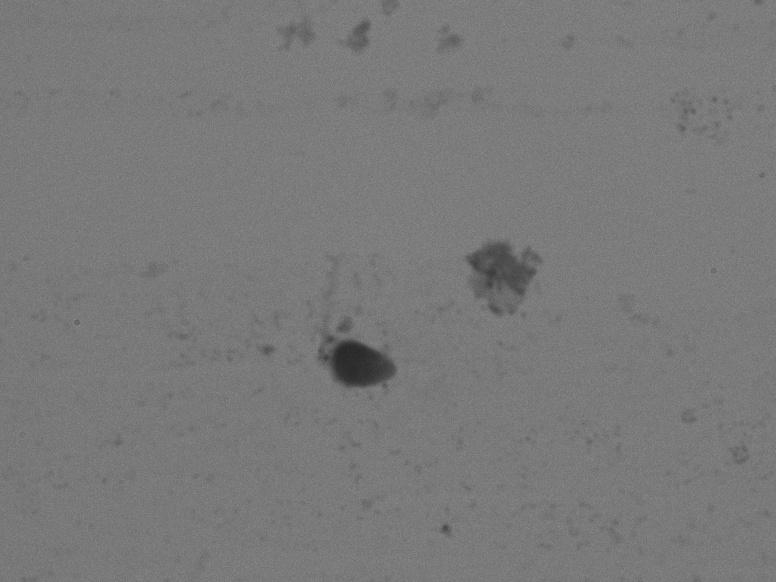Abnormal: (266, 216, 442, 438)
